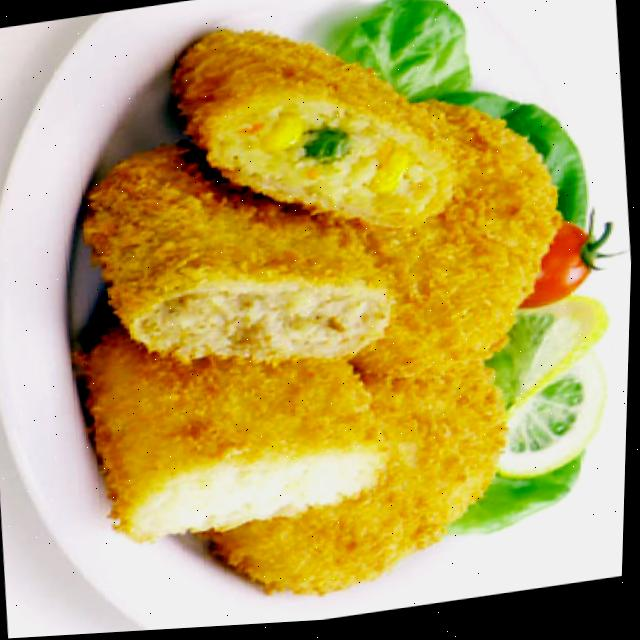炸货点心: (47, 1, 619, 631)
